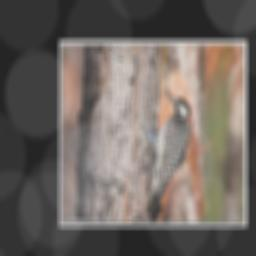Woodpecker: (131, 87, 198, 222)
